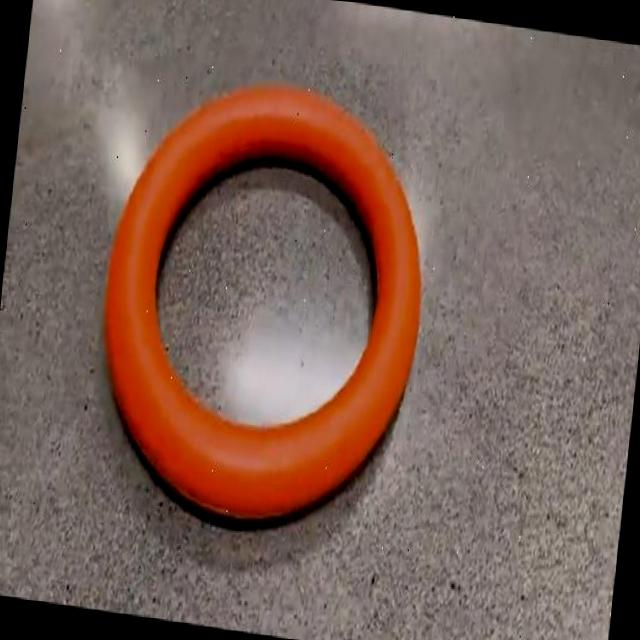note: (104, 88, 420, 518)
